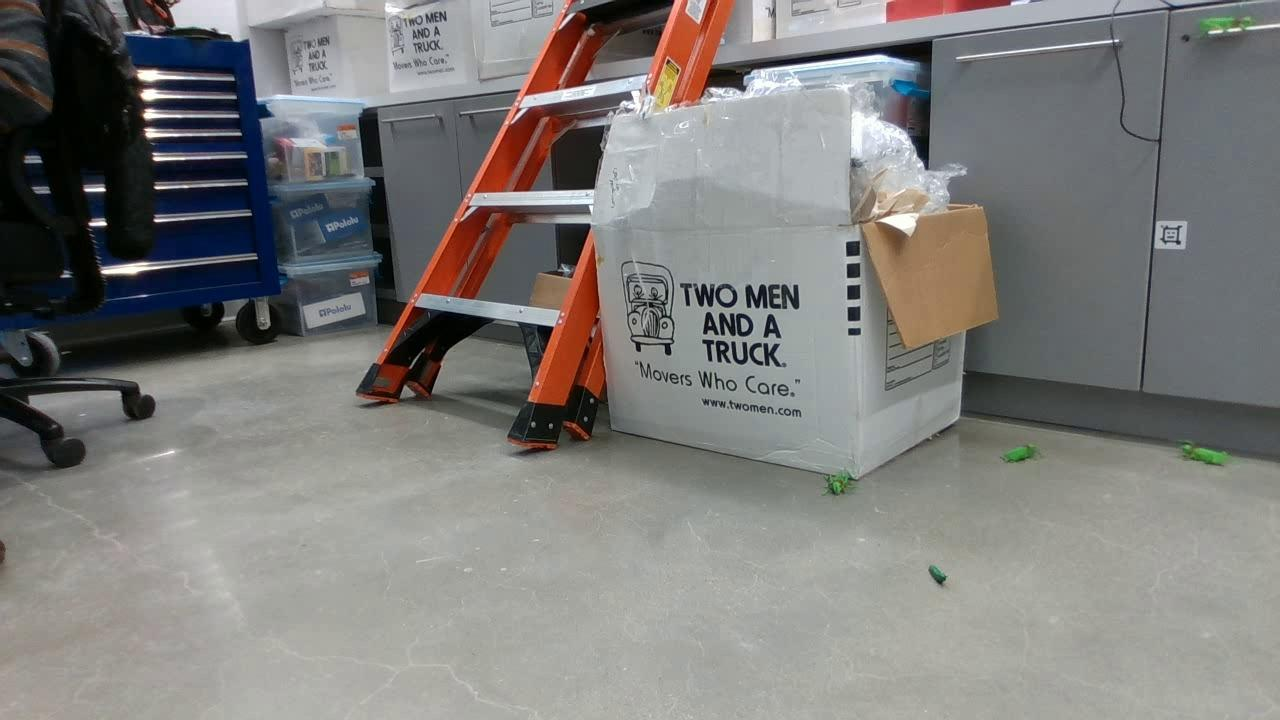grasshopper: (1175, 441, 1231, 470), (1195, 14, 1252, 33), (822, 464, 851, 498), (998, 442, 1039, 466)
